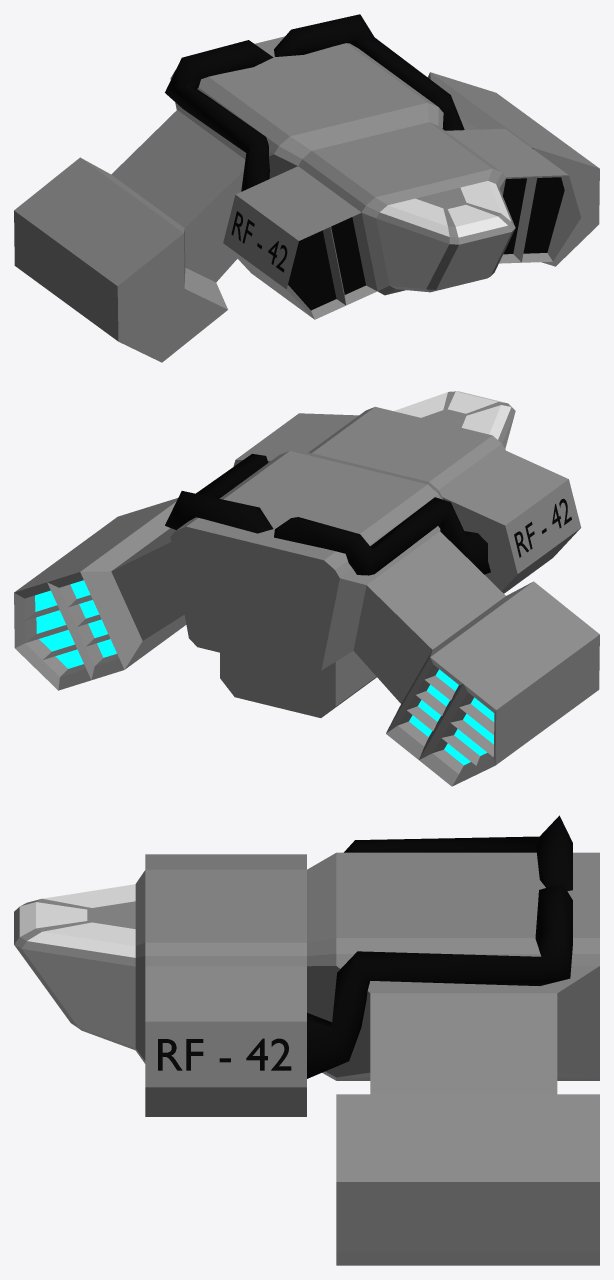
The model's file is ShipV2.fbx.
3 views of the same model, one above another, from view 1: azimuth 30°, elevation 25°; view 2: azimuth 150°, elevation 25°; view 3: azimuth 270°, elevation 25° (orthographic). The views are drawn at different scales.
Parts seen in each view (by area): view 1: Cube.001, BezierCurve, BezierCurve.001, Text.002; view 2: Cube.001, BezierCurve, BezierCurve.001; view 3: Cube.001, BezierCurve.001, BezierCurve, Text.001.
Boxes of the visible parts, <box> form: Cube.001: <box>14,36,599,362</box>; BezierCurve: <box>165,40,273,191</box>; BezierCurve.001: <box>274,14,464,130</box>; Text.002: <box>231,211,287,272</box>; Cube.001: <box>14,391,599,786</box>; BezierCurve: <box>274,497,490,575</box>; BezierCurve.001: <box>165,453,273,533</box>; Cube.001: <box>14,852,599,1265</box>; BezierCurve.001: <box>307,883,572,1078</box>; BezierCurve: <box>344,815,572,891</box>; Text.001: <box>158,1038,291,1070</box>.
Size of the model in its own units: 1509 by 643 by 1249.
